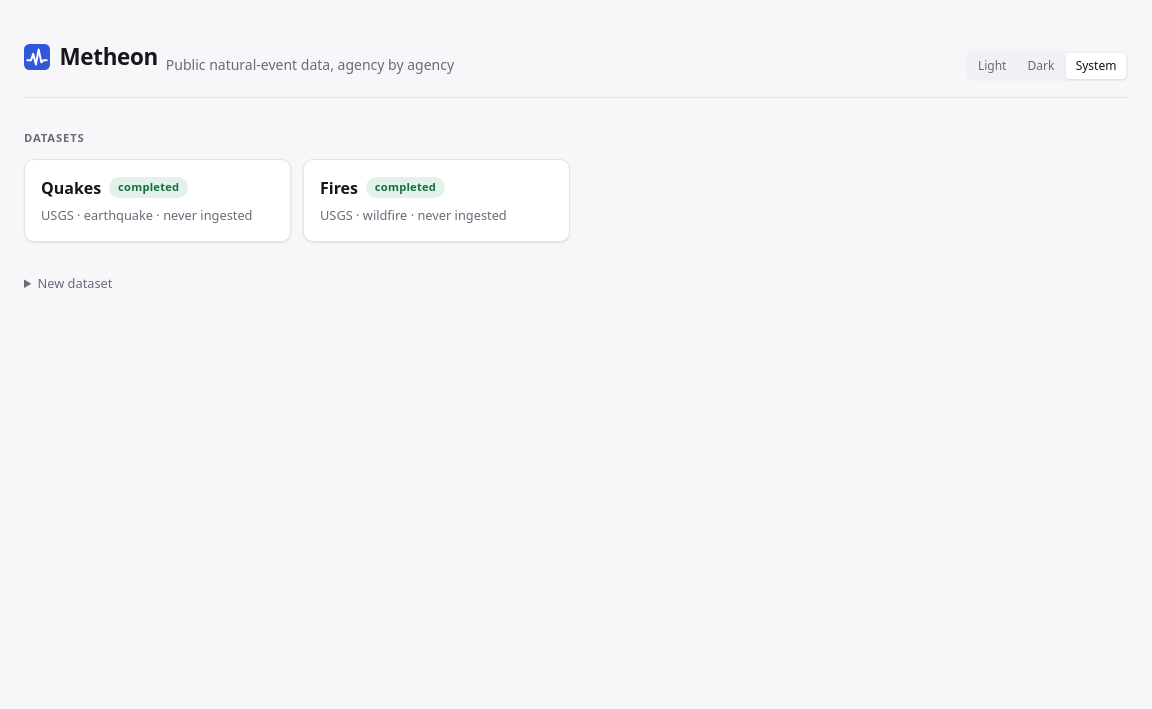
Test: deleting a dataset › asks first, then removes the dataset and closes its panel
Click the button "Quakes completed USGS · earthquake · never ingested": (158, 200) [24,159,291,242]
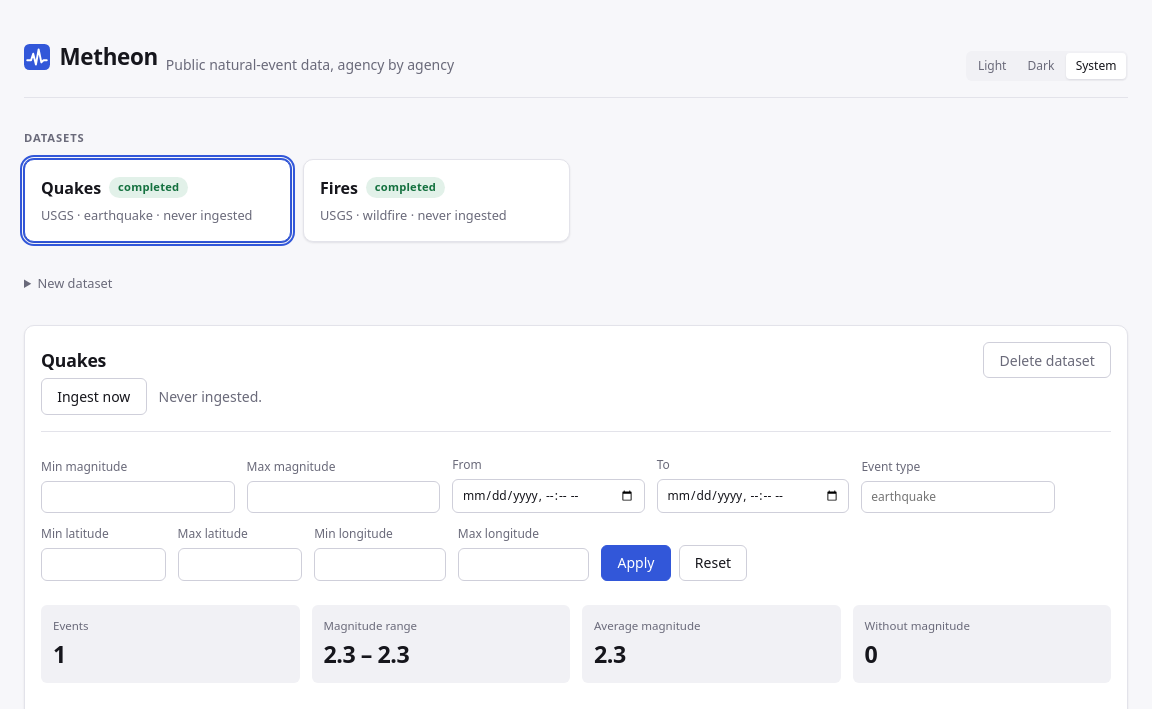
expect the heading "Quakes" is shown: met, box [41,347,106,373]
Click the button "Delete dataset": (1047, 360) [983,342,1111,378]
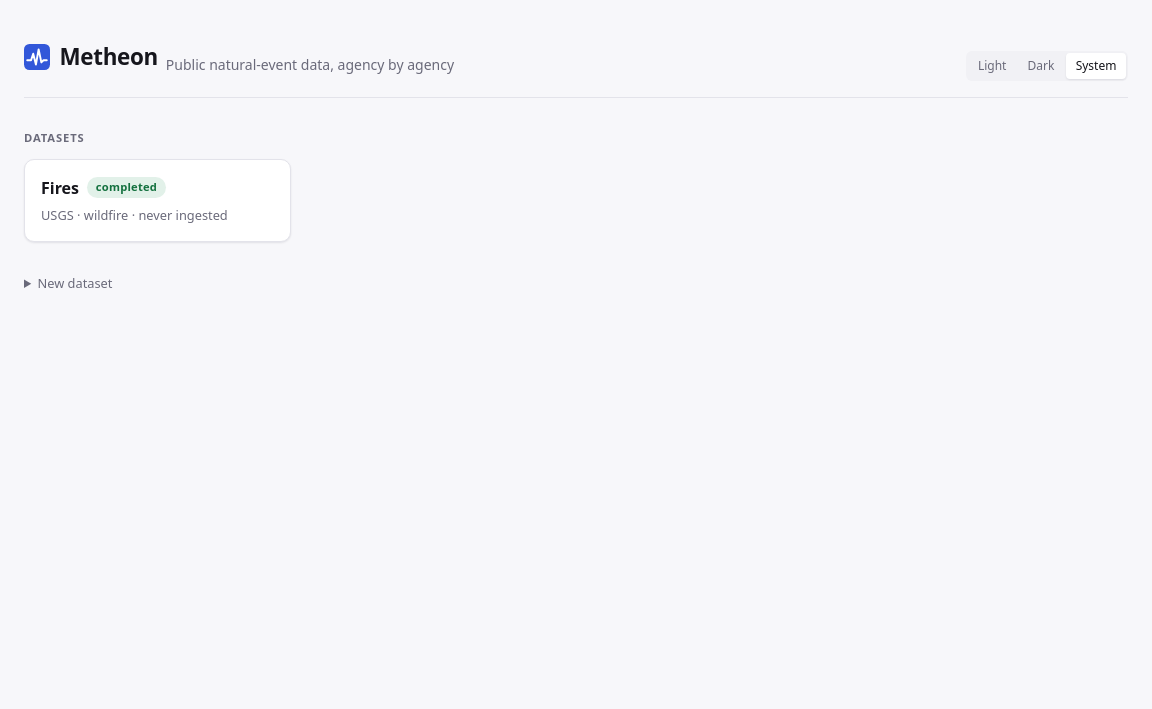
expect the button "Fires completed USGS · wildfire · never ingested" is shown: met, box [24,159,291,242]
expect the button "Quakes" is gone: met
expect the heading "Quakes" is gone: met
